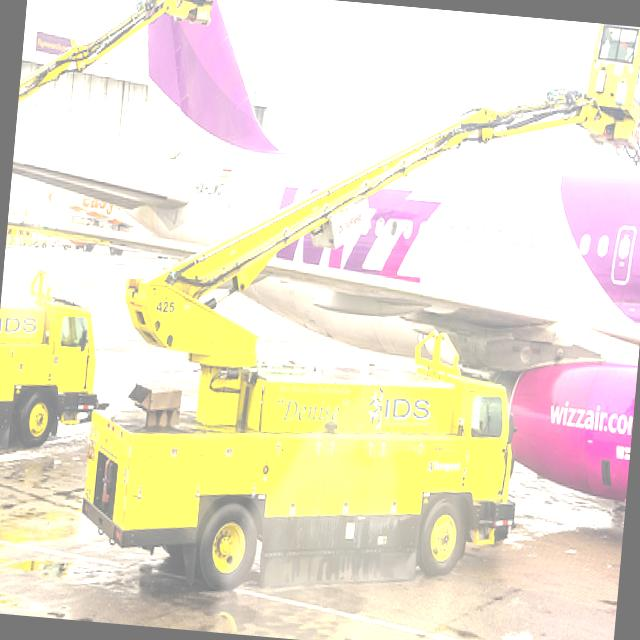Vehicle: (69, 0, 640, 627), (0, 266, 107, 450)
